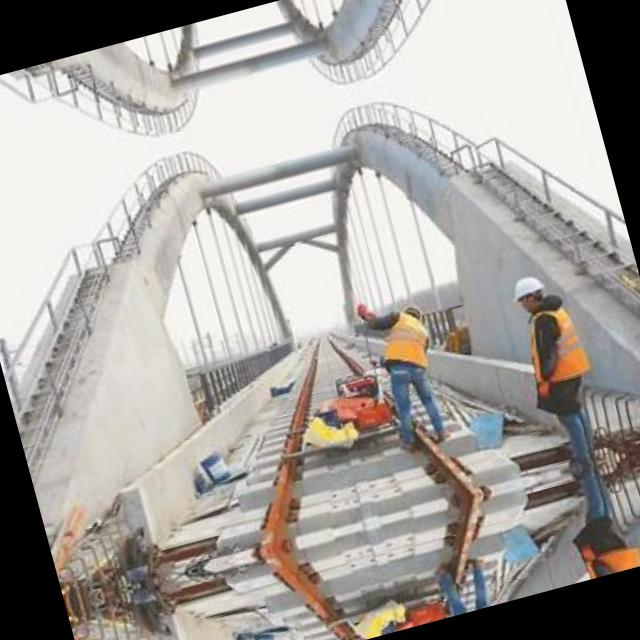helmet: (504, 269, 550, 317), (395, 296, 425, 326)
